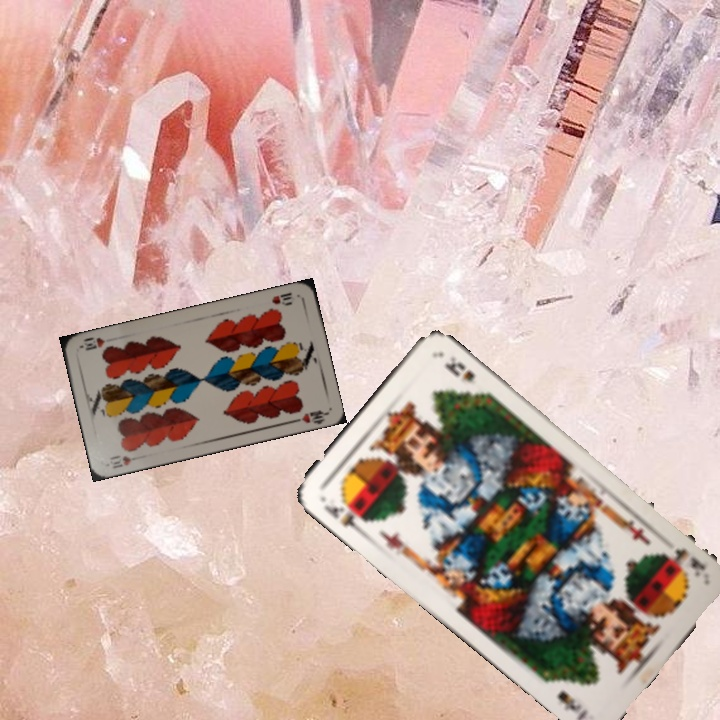H10: (105, 451, 134, 471), (268, 288, 295, 308)
SK: (317, 492, 370, 535), (659, 544, 709, 579)
